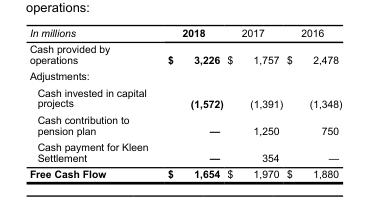table: (28, 28, 341, 180)
table column: (28, 28, 157, 180), (157, 28, 224, 180), (224, 28, 284, 180), (284, 28, 341, 180)
table column header: (28, 28, 341, 42)
table projected row header: (28, 69, 341, 85)
table row: (28, 85, 341, 113), (28, 42, 341, 69), (28, 113, 341, 140), (28, 140, 341, 167), (28, 69, 341, 85), (28, 28, 341, 42), (28, 167, 341, 180)
